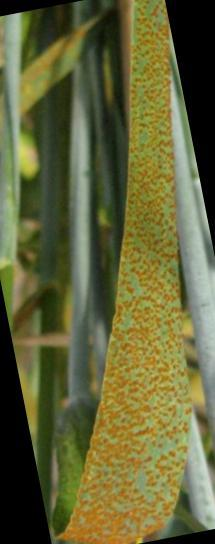Wheat: (71, 397, 181, 541), (118, 230, 174, 382), (132, 8, 165, 219)
